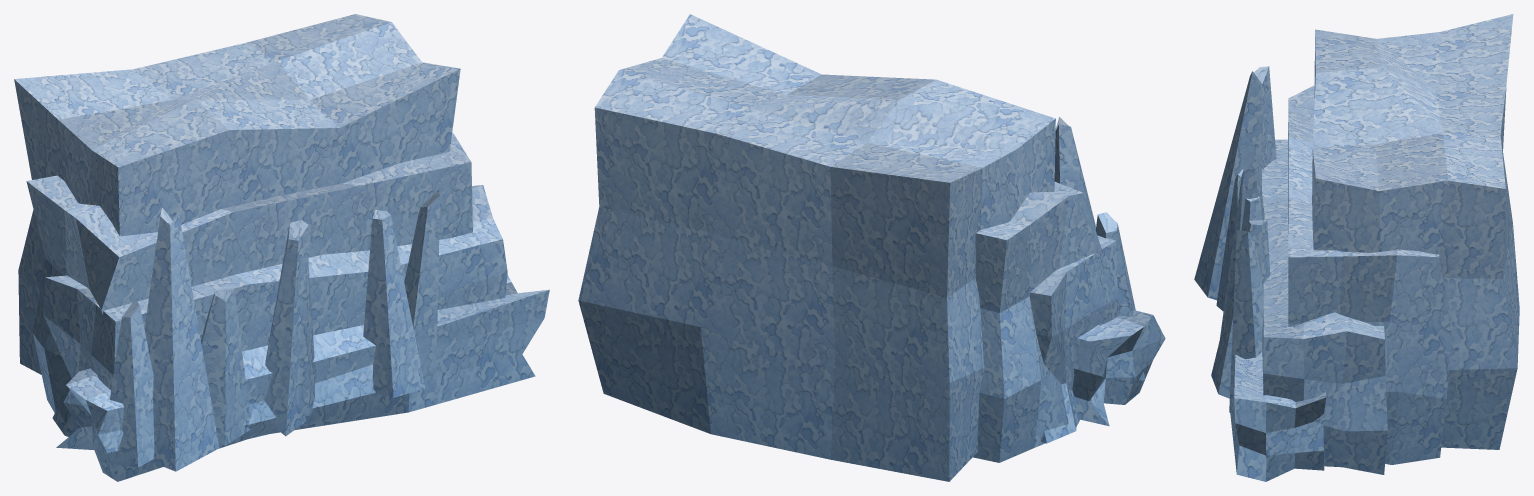
Rendered from ice_glacier_face.glb.
3 views of the same model, side by side, from view 1: azimuth 30°, elevation 25°; view 2: azimuth 150°, elevation 25°; view 3: azimuth 270°, elevation 25° (orthographic). The views are drawn at different scales.
Visible parts, largest first — view 1: ice_glacier_face; view 2: ice_glacier_face; view 3: ice_glacier_face.
Boxes of the visible parts, bbox=[...] form: ice_glacier_face: bbox=[14, 14, 549, 481]; ice_glacier_face: bbox=[578, 14, 1165, 481]; ice_glacier_face: bbox=[1194, 14, 1519, 481].
Size of the model in its own units: 27.61 by 17.32 by 17.63.
1 material, 1 textured.
